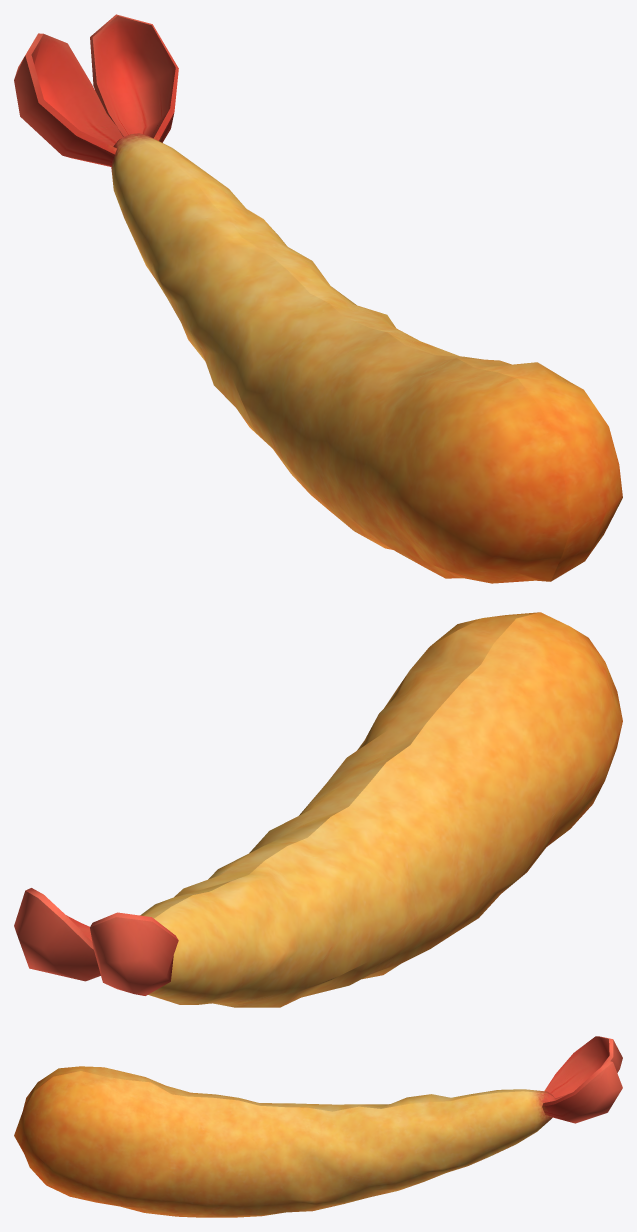
The model's file is Tempura_1.fbx.
3 views of the same model, one above another, from view 1: azimuth 30°, elevation 25°; view 2: azimuth 150°, elevation 25°; view 3: azimuth 270°, elevation 25° (orthographic). The views are drawn at different scales.
Visible parts, largest first — view 1: Tempura_1; view 2: Tempura_1; view 3: Tempura_1.
Boxes of the visible parts, x1,y1,x2,y2 form: Tempura_1: (14, 14, 622, 583); Tempura_1: (14, 612, 622, 1007); Tempura_1: (14, 1036, 622, 1217).
Bounding box in the file's own units: 11.57 × 15.44 × 51.69.
1 material, 1 textured.
